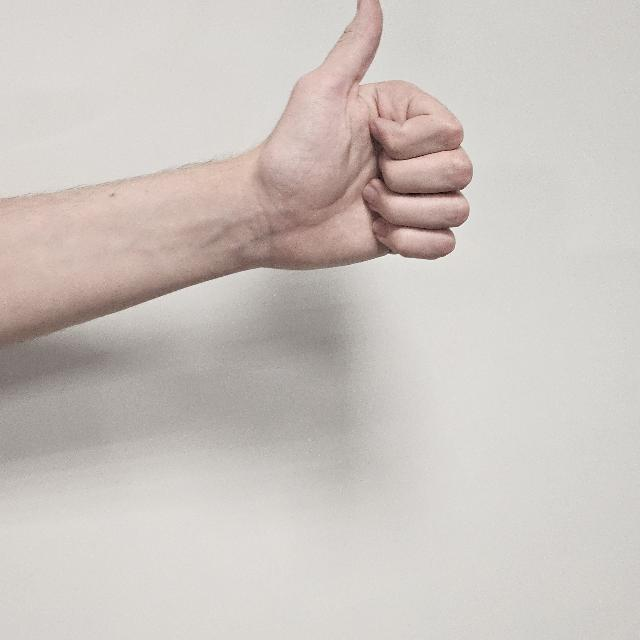Start: (260, 1, 472, 298)
